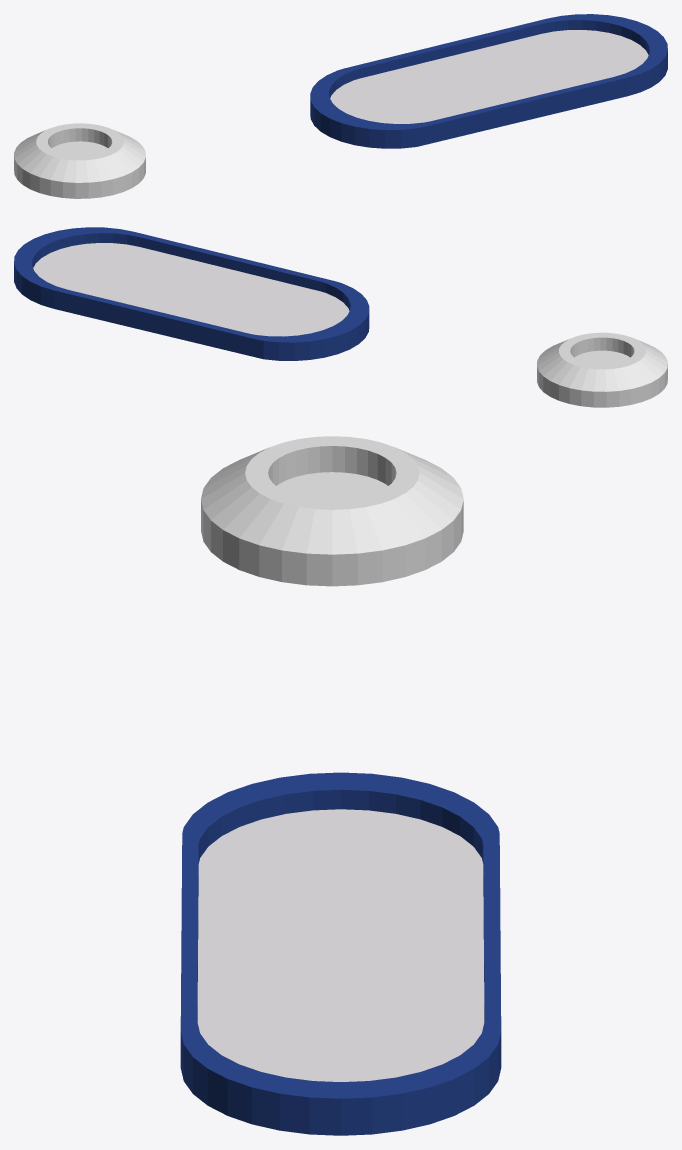
The model's file is Roket Plate.fbx.
3 renders of one model, top to bottom at view 1: azimuth 30°, elevation 25°; view 2: azimuth 150°, elevation 25°; view 3: azimuth 270°, elevation 25°, orthographic. The views are drawn at different scales.
Parts seen in each view (by area): view 1: Plate, Roket; view 2: Plate, Roket; view 3: Plate, Roket.
Part boxes in pixels (left/top/right/bottom): Plate: left=310, top=14, right=667, bottom=148; Roket: left=14, top=123, right=145, bottom=198; Plate: left=14, top=227, right=369, bottom=360; Roket: left=537, top=332, right=667, bottom=407; Plate: left=180, top=772, right=501, bottom=1135; Roket: left=201, top=436, right=463, bottom=586.
Size of the model in its own units: 3797 by 289 by 833.
